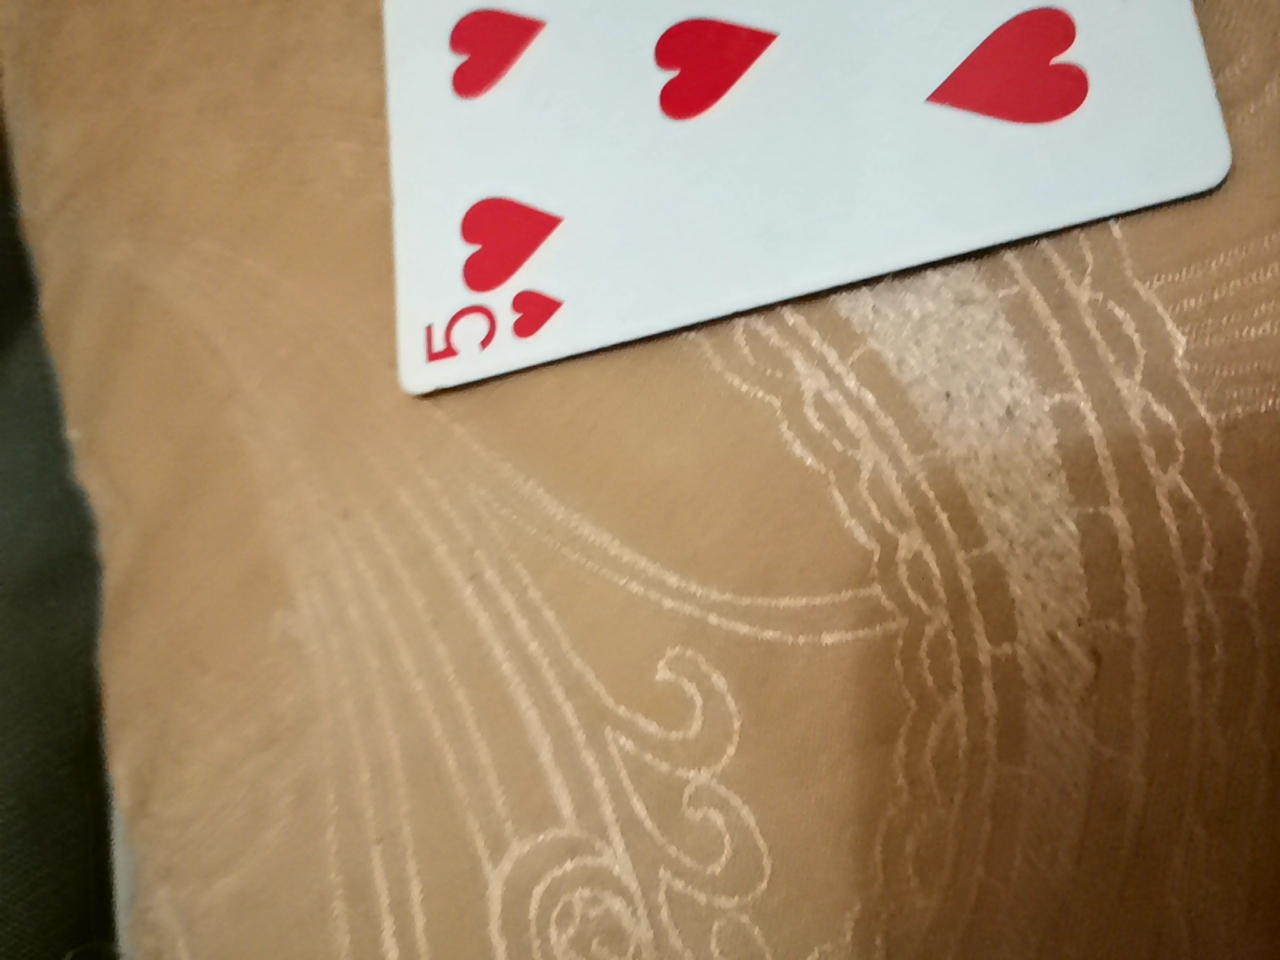hx 5: (342, 0, 1205, 424)
